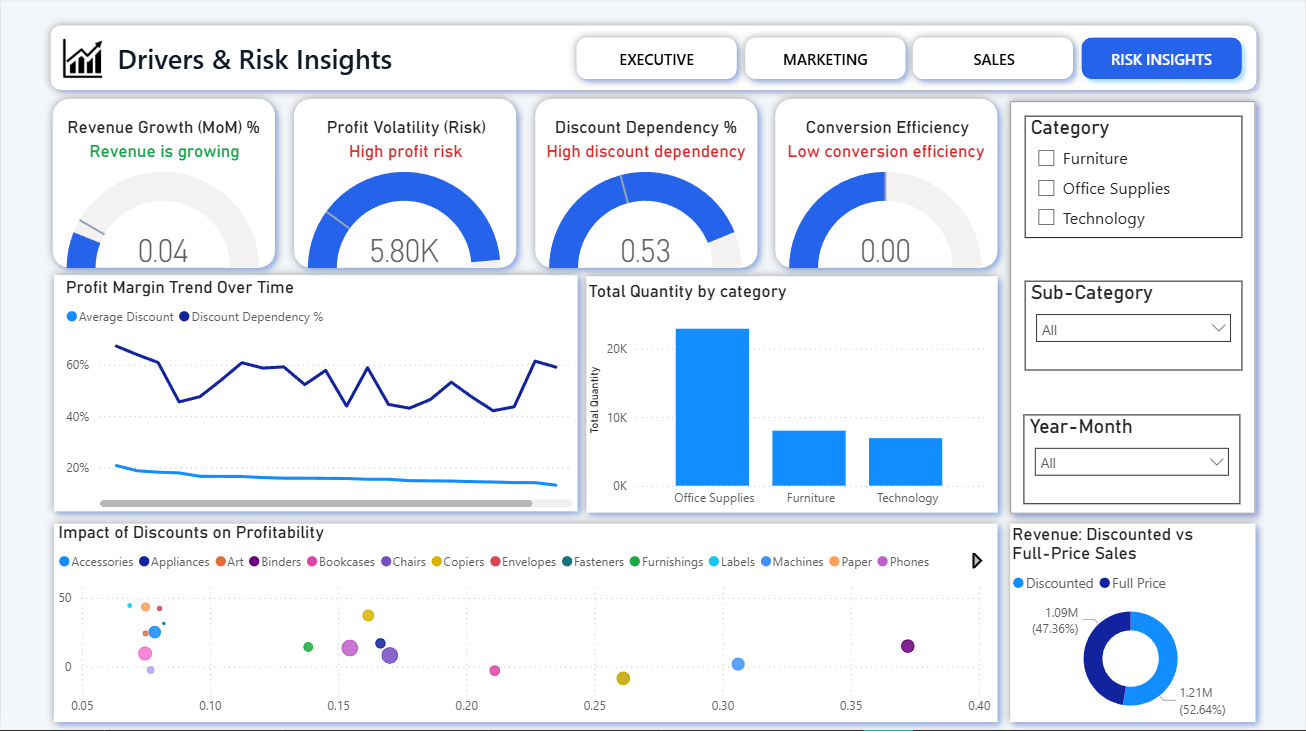

What the dashboard file says about the page in this screenshot:
{"tool":"powerbi","page":{"name":"Drivers & Risk Insights","canvas":[1280,720],"ordinal":3},"visuals":[{"type":"shape","box":[42.3,90.8,236.4,184.1],"z":0,"group":"g2"},{"type":"shape","box":[981.5,93.3,258.7,423],"z":0},{"type":"shape","box":[43.5,507.5,944.2,212.7],"z":0},{"type":"shape","box":[40.5,20,1200,79.8],"z":1000},{"type":"gauge","title":"Total Ad Spend vs Target","fields":{"Y":["sales_marketing_bi sales_cleaned.Revenue Growth Gauge"],"TargetValue":["sales_marketing_bi sales_cleaned.Revenue Growth Target"],"MaxValue":["sales_marketing_bi sales_cleaned.Revenue Growth Max"]},"box":[54.7,166.7,210.2,104.5],"z":1000,"group":"g2"},{"type":"scatterChart","title":"Impact of Discounts on Profitability","fields":{"X":["sales_marketing_bi sales_cleaned.Average Discount"],"Y":["sales_marketing_bi sales_cleaned.Profit Margin %"],"Size":["sales_marketing_bi sales_cleaned.Total Revenue"],"Series":["sales_marketing_bi sales_cleaned.sub_category"]},"box":[51,515,925.5,199],"z":1000},{"type":"textbox","box":[58.5,113.2,204,32.3],"z":2000,"group":"g2"},{"type":"shape","box":[43.5,263.7,532,250],"z":2000},{"type":"group","id":"g1","title":"Group 3","box":[981.5,507.5,258.7,212.7],"z":2000},{"type":"image","box":[40.5,38,58.9,44.2],"z":3000},{"type":"shape","box":[555.8,30.7,175.5,58.9],"z":4000},{"type":"slicer","title":"Year-Month","fields":{"Values":["DateTable.Year-Month"]},"box":[1003.9,409.3,212.7,88.3],"z":5000},{"type":"shape","box":[721.1,30.7,175.5,58.9],"z":6000},{"type":"shape","box":[278.6,90.8,236.4,184.1],"z":7000},{"type":"shape","box":[886.3,30.7,175.5,58.9],"z":8000},{"type":"slicer","title":"Category","fields":{"Values":["sales_marketing_bi sales_cleaned.category"]},"box":[1004.9,116.3,213.5,120.2],"z":9000},{"type":"shape","box":[1051.5,30.7,175.5,58.9],"z":10000},{"type":"shape","box":[981.5,507.5,258.7,212.7],"z":11000,"group":"g1"},{"type":"actionButton","title":"Marketing ","box":[566.1,41.7,155.8,40.5],"z":12000},{"type":"shape","box":[566,265,421.7,250],"z":13000},{"type":"actionButton","title":"Marketing ","box":[731.3,41.7,155.8,40.5],"z":14000},{"type":"shape","box":[515,90.8,236.4,184.1],"z":15000},{"type":"actionButton","title":"Marketing ","box":[896.5,41.7,155.8,40.5],"z":16000},{"type":"slicer","title":"Sub-Category","fields":{"Values":["sales_marketing_bi sales_cleaned.sub_category"]},"box":[1004.9,278.7,213.5,88.3],"z":17000},{"type":"actionButton","title":"Marketing ","box":[1061.8,41.7,155.8,40.5],"z":18000},{"type":"shape","box":[751.4,90.8,236.4,184.1],"z":19000},{"type":"gauge","title":"Total Ad Spend vs Target","fields":{"Y":["sales_marketing_bi sales_cleaned.Profit Volatility"],"TargetValue":["DateTable.Profit Volatility Target"],"MaxValue":["sales_marketing_bi sales_cleaned.Profit Volatility Max"]},"box":[291.1,166.7,210.2,104.5],"z":20000},{"type":"gauge","title":"Total Ad Spend vs Target","fields":{"Y":["sales_marketing_bi sales_cleaned.Discount Dependency Gauge"],"TargetValue":["sales_marketing_bi sales_cleaned.Discount Dependency Target"],"MaxValue":["DateTable.Discount Dependency Max"]},"box":[527.4,166.7,210.2,104.5],"z":21000},{"type":"gauge","title":"Total Ad Spend vs Target","fields":{"Y":["sales_marketing_bi sales_cleaned.Conversion Efficiency Gauge"],"TargetValue":["sales_marketing_bi sales_cleaned.Conversion Efficiency Target"],"MaxValue":["sales_marketing_bi sales_cleaned.Conversion Efficiency Max"]},"box":[763.8,166.7,210.2,104.5],"z":22000},{"type":"textbox","box":[294.8,113.2,206.5,53.5],"z":23000},{"type":"textbox","box":[531.2,113.2,204,53.5],"z":24000},{"type":"textbox","box":[767.5,113.2,204,32.3],"z":25000},{"type":"group","id":"g2","title":"Group 1","box":[42.3,90.8,236.4,184.1],"z":27000},{"type":"card","fields":{"Values":["sales_marketing_bi sales_cleaned.Revenue Growth Status"]},"box":[74.6,129.4,171.7,46],"z":28000},{"type":"card","fields":{"Values":["sales_marketing_bi sales_cleaned.Profit Volatility Status"]},"box":[312.2,129.4,171.7,46],"z":29000},{"type":"card","fields":{"Values":["sales_marketing_bi sales_cleaned.Discount Dependency Status"]},"box":[526.2,129.4,214,46],"z":30000},{"type":"card","fields":{"Values":["sales_marketing_bi sales_cleaned.Conversion Efficiency Status"]},"box":[762.5,129.4,214,46],"z":31000},{"type":"clusteredColumnChart","title":"Total Quantity by category ","fields":{"Category":["sales_marketing_bi sales_cleaned.category"],"Y":["sales_marketing_bi sales_cleaned.Total Quantity"]},"box":[572.2,278.6,399.3,231.4],"z":32000},{"type":"lineChart","title":"Profit Margin Trend Over Time","fields":{"Category":["DateTable.Year-Month"],"Y":["sales_marketing_bi sales_cleaned.Average Discount","sales_marketing_bi sales_cleaned.Discount Dependency %"]},"box":[58.5,274.9,507.5,231.4],"z":33000},{"type":"donutChart","title":"Revenue: Discounted vs Full-Price Sales","fields":{"Category":["sales_marketing_bi sales_cleaned.Discount Flag"],"Y":["sales_marketing_bi sales_cleaned.Total Revenue"]},"box":[987.7,516.2,242.6,197.8],"z":34000,"group":"g1"}]}

Visuals, with their boxes in screenshot pixels (x1, y1, x2, y2), scaled from the page's 1280x720 canvas onto the 1306x731 screenshot:
shape: <region>43, 92, 284, 279</region>
shape: <region>1001, 95, 1265, 524</region>
shape: <region>44, 515, 1008, 730</region>
shape: <region>41, 20, 1266, 101</region>
"Total Ad Spend vs Target" gauge: <region>56, 169, 270, 275</region>
"Impact of Discounts on Profitability" scatterChart: <region>52, 523, 996, 725</region>
textbox: <region>60, 115, 268, 148</region>
shape: <region>44, 268, 587, 522</region>
"Group 3" group: <region>1001, 515, 1265, 730</region>
image: <region>41, 39, 101, 83</region>
shape: <region>567, 31, 746, 91</region>
"Year-Month" slicer: <region>1024, 416, 1241, 505</region>
shape: <region>736, 31, 915, 91</region>
shape: <region>284, 92, 525, 279</region>
shape: <region>904, 31, 1083, 91</region>
"Category" slicer: <region>1025, 118, 1243, 240</region>
shape: <region>1073, 31, 1252, 91</region>
shape: <region>1001, 515, 1265, 730</region>
"Marketing " actionButton: <region>578, 42, 737, 83</region>
shape: <region>577, 269, 1008, 523</region>
"Marketing " actionButton: <region>746, 42, 905, 83</region>
shape: <region>525, 92, 767, 279</region>
"Marketing " actionButton: <region>915, 42, 1074, 83</region>
"Sub-Category" slicer: <region>1025, 283, 1243, 373</region>
"Marketing " actionButton: <region>1083, 42, 1242, 83</region>
shape: <region>767, 92, 1008, 279</region>
"Total Ad Spend vs Target" gauge: <region>297, 169, 511, 275</region>
"Total Ad Spend vs Target" gauge: <region>538, 169, 753, 275</region>
"Total Ad Spend vs Target" gauge: <region>779, 169, 994, 275</region>
textbox: <region>301, 115, 511, 169</region>
textbox: <region>542, 115, 750, 169</region>
textbox: <region>783, 115, 991, 148</region>
"Group 1" group: <region>43, 92, 284, 279</region>
card - sales_marketing_bi sales_cleaned.Revenue Growth Status: <region>76, 131, 251, 178</region>
card - sales_marketing_bi sales_cleaned.Profit Volatility Status: <region>319, 131, 494, 178</region>
card - sales_marketing_bi sales_cleaned.Discount Dependency Status: <region>537, 131, 755, 178</region>
card - sales_marketing_bi sales_cleaned.Conversion Efficiency Status: <region>778, 131, 996, 178</region>
"Total Quantity by category " clusteredColumnChart: <region>584, 283, 991, 518</region>
"Profit Margin Trend Over Time" lineChart: <region>60, 279, 577, 514</region>
"Revenue: Discounted vs Full-Price Sales" donutChart: <region>1008, 524, 1255, 725</region>
